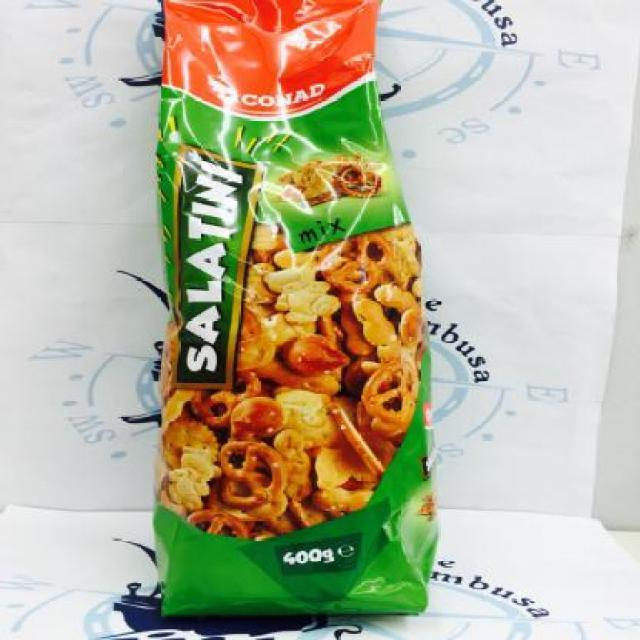Salatini: (132, 99, 452, 616)
